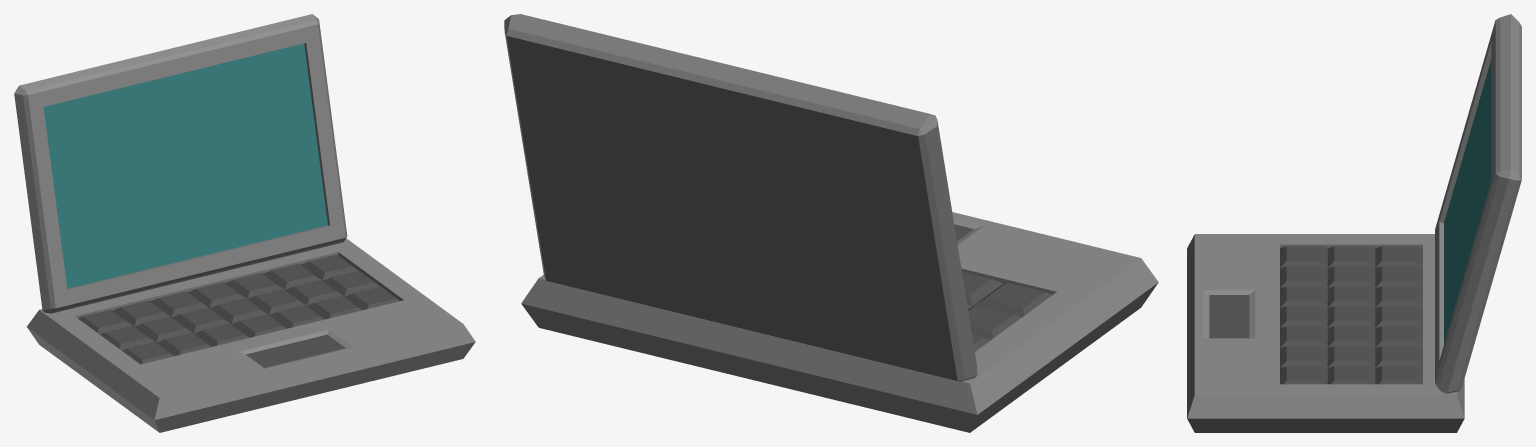
The model's file is Laptop.glb.
The picture shows the model from 3 angles, left to right: view 1: azimuth 30°, elevation 25°; view 2: azimuth 150°, elevation 25°; view 3: azimuth 270°, elevation 25°; orthographic projection. The views are drawn at different scales.
Parts seen in each view (by area): view 1: Laptop; view 2: Laptop; view 3: Laptop.
Boxes of the visible parts, x1,y1,x2,y2 form: Laptop: [14, 14, 475, 432]; Laptop: [504, 14, 1158, 432]; Laptop: [1187, 14, 1521, 432].
Size of the model in its own units: 280 by 200 by 232.
